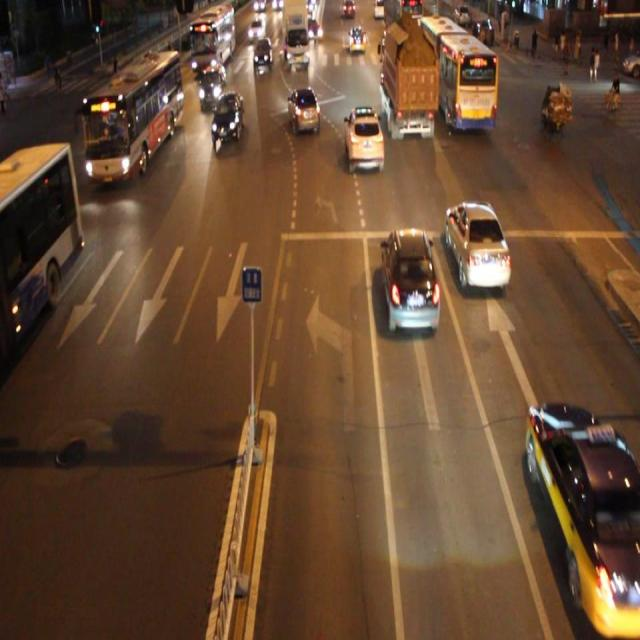bus: (382, 27, 434, 137)
car: (526, 402, 640, 627), (381, 226, 438, 328), (446, 200, 509, 288), (343, 105, 385, 172), (211, 91, 242, 145), (288, 86, 319, 136), (198, 61, 226, 111)
van: (1, 142, 82, 368), (82, 50, 180, 181), (418, 14, 495, 132)
